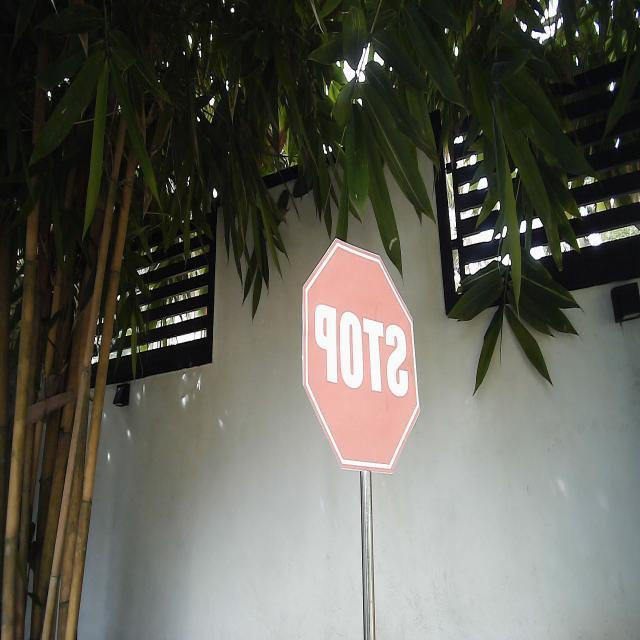stop: (300, 235, 422, 478)
